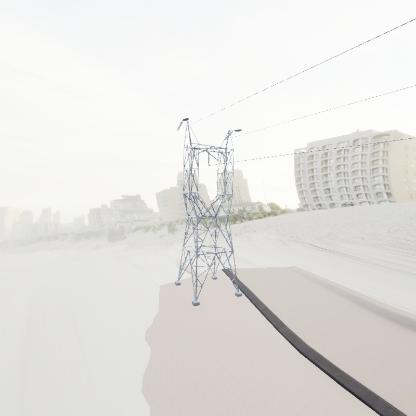tower: (171, 113, 246, 309)
